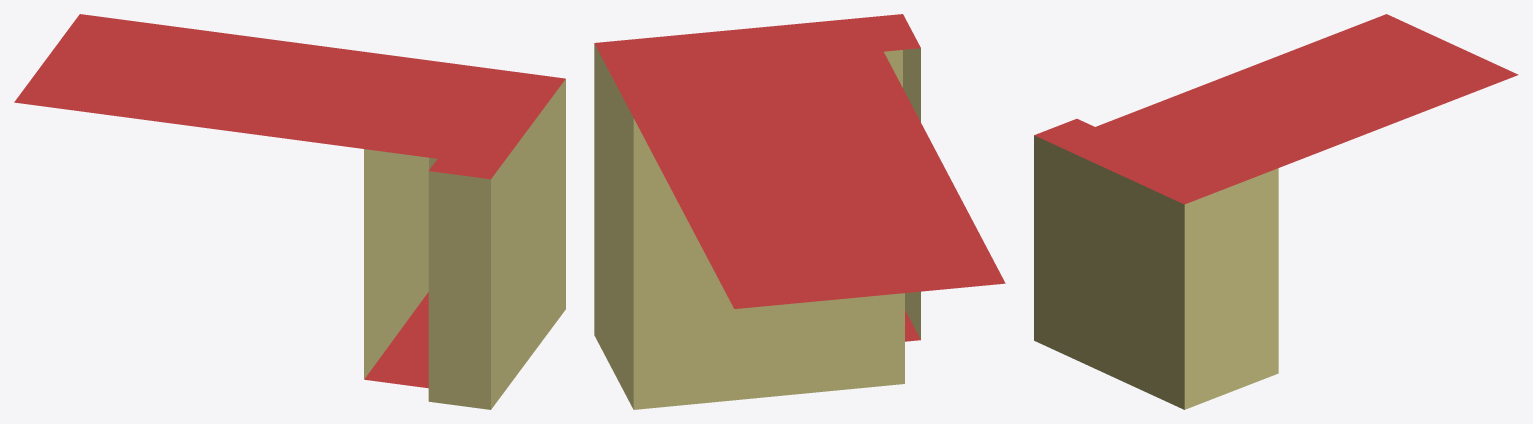
The picture shows the model from 3 angles, left to right: view 1: azimuth 30°, elevation 25°; view 2: azimuth 150°, elevation 25°; view 3: azimuth 270°, elevation 25°; orthographic projection. The views are drawn at different scales.
Bounding box in the file's own units: 11.44 × 12.29 × 5.75.
